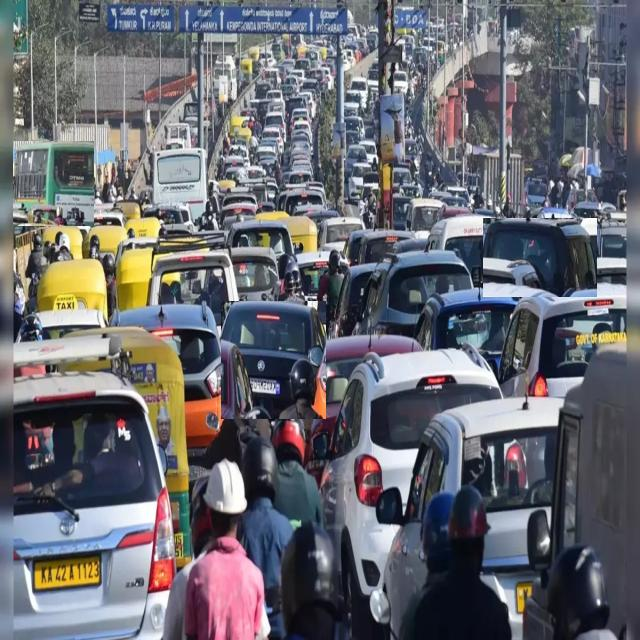autorickshaw: (38, 258, 106, 319)
bus: (14, 141, 94, 226), (152, 148, 208, 219)
car: (320, 348, 500, 638), (380, 398, 561, 638), (14, 372, 176, 638), (112, 305, 232, 457), (499, 283, 626, 397), (221, 302, 326, 419), (354, 252, 472, 336), (484, 218, 597, 297), (415, 288, 516, 374), (149, 250, 239, 325)
